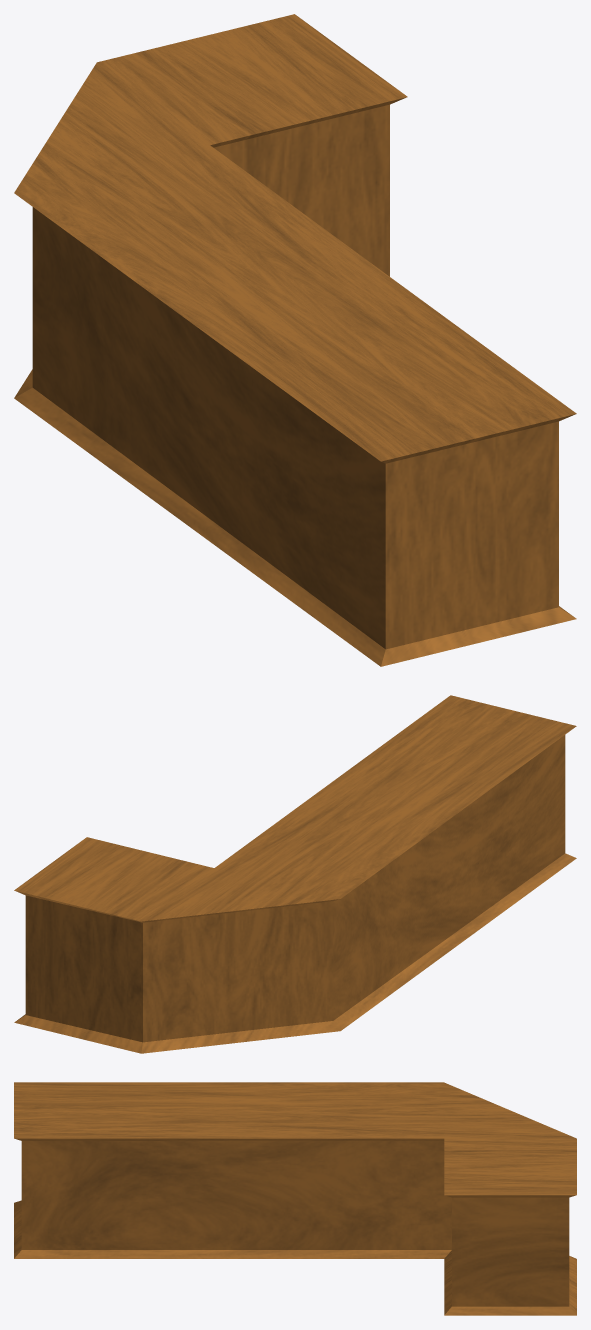
The model's file is Counter 1.fbx.
3 views of the same model, one above another, from view 1: azimuth 30°, elevation 25°; view 2: azimuth 150°, elevation 25°; view 3: azimuth 270°, elevation 25° (orthographic). The views are drawn at different scales.
Visible parts, largest first — view 1: Cube.001; view 2: Cube.001; view 3: Cube.001.
Part boxes in pixels (x1,y1,x2,y2): Cube.001: [14, 14, 576, 666]; Cube.001: [14, 695, 576, 1053]; Cube.001: [14, 1082, 576, 1315].
Size of the model in its own units: 402 by 200 by 848.
